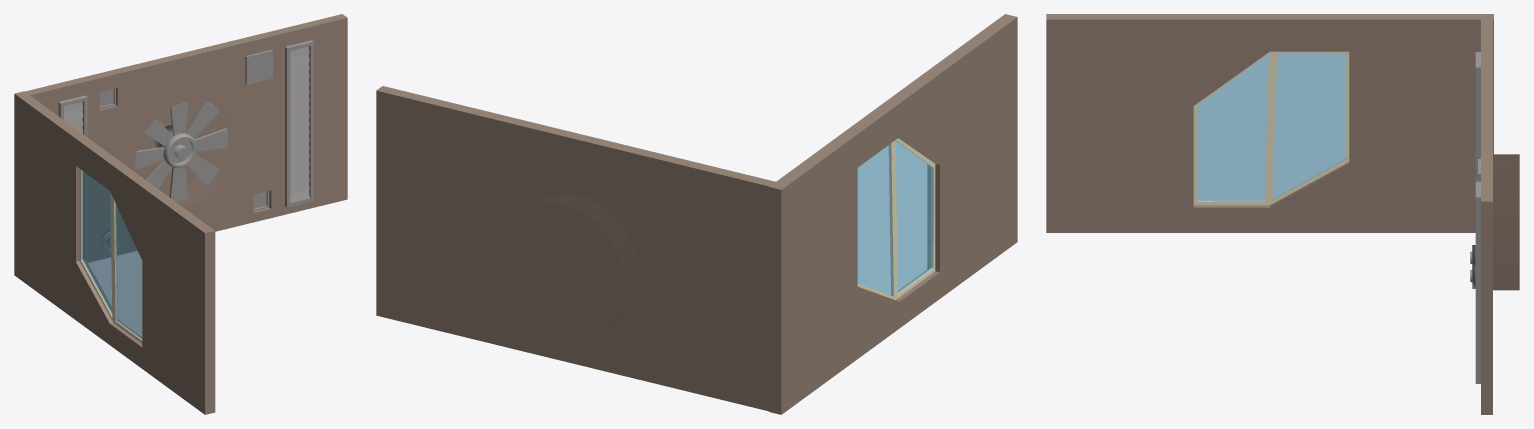
The model's file is walls_tier17.fbx.
3 renders of one model, left to right at view 1: azimuth 30°, elevation 25°; view 2: azimuth 150°, elevation 25°; view 3: azimuth 270°, elevation 25°, orthographic. The views are drawn at different scales.
Visible parts, largest first — view 1: Cube.007, Cube, Cube.003, Cube.004, Cube.001, Cylinder.002, Cube.002, Cube.012, Cube.017, Cube.015, Cube.018, Cube.020 (+4 smaller); view 2: Cube.007, Cube, Cube.003, Cube.001; view 3: Cube, Cube.003, Cube.007, Cube.001, Cube.004, Cube.002.
Part boxes in pixels (<box>): Cube.007: <box>25,14,347,262</box>; Cube: <box>14,91,215,414</box>; Cube.003: <box>81,170,142,339</box>; Cube.004: <box>285,40,313,207</box>; Cube.001: <box>79,169,142,343</box>; Cylinder.002: <box>152,125,196,168</box>; Cube.002: <box>58,95,87,255</box>; Cube.012: <box>245,49,273,84</box>; Cube.017: <box>185,101,219,139</box>; Cube.015: <box>194,128,228,152</box>; Cube.018: <box>169,167,188,202</box>; Cube.020: <box>187,155,219,185</box>; Cube.007: <box>376,86,775,411</box>; Cube: <box>769,14,1017,414</box>; Cube.003: <box>857,140,932,295</box>; Cube.001: <box>857,138,935,300</box>; Cube: <box>1046,14,1493,232</box>; Cube.003: <box>1197,52,1346,201</box>; Cube.007: <box>1481,19,1519,414</box>; Cube.001: <box>1193,51,1349,205</box>; Cube.004: <box>1475,181,1480,383</box>; Cube.002: <box>1475,52,1480,181</box>.
Size of the model in its own units: 653 by 346 by 696.
